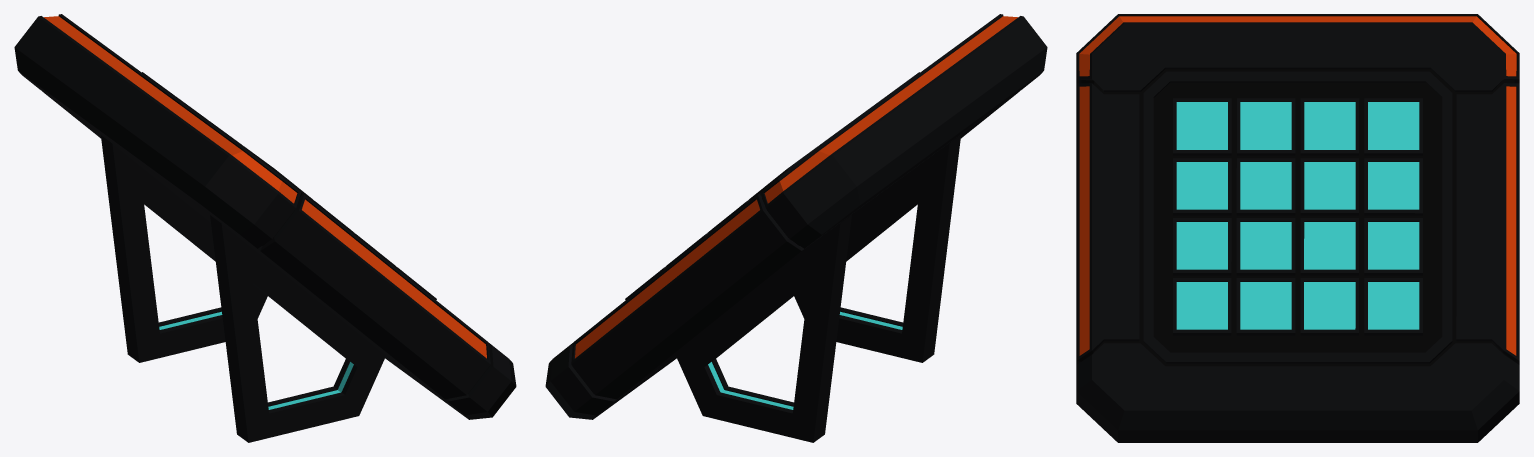
Rendered from SM_Angled_Control_Panel.obj.
3 views of the same model, side by side, from view 1: azimuth 30°, elevation 25°; view 2: azimuth 150°, elevation 25°; view 3: azimuth 270°, elevation 25° (orthographic). The views are drawn at different scales.
Visible parts, largest first — view 1: SM_Angled_Control_Panel; view 2: SM_Angled_Control_Panel; view 3: SM_Angled_Control_Panel.
Part boxes in pixels (box(x1,y1,x2,y2)): SM_Angled_Control_Panel: box(14, 14, 516, 442); SM_Angled_Control_Panel: box(545, 14, 1047, 442); SM_Angled_Control_Panel: box(1076, 14, 1519, 442).
Bounding box in the file's own units: 0.2297 × 0.2299 × 0.3.
